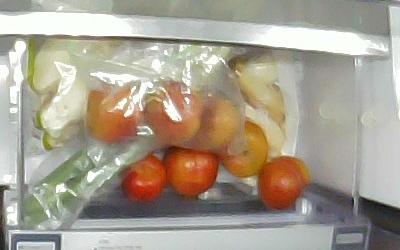prune: (161, 143, 220, 198), (256, 155, 310, 210), (218, 119, 268, 178), (118, 152, 167, 203)
prune_vinyl: (139, 78, 202, 146), (85, 81, 144, 142), (188, 88, 242, 150)
